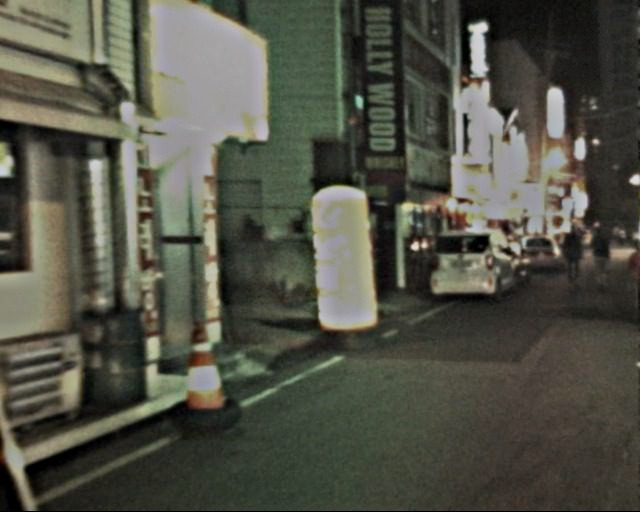person: (587, 223, 619, 290), (562, 224, 593, 288)
